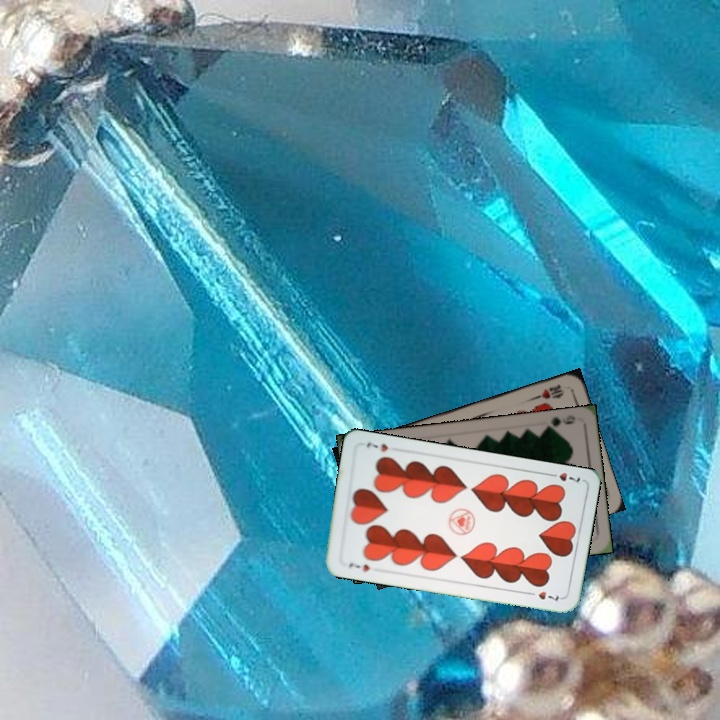G9: (541, 411, 578, 433)
H10: (530, 380, 567, 402)
H7: (544, 468, 583, 485), (344, 558, 372, 574)
